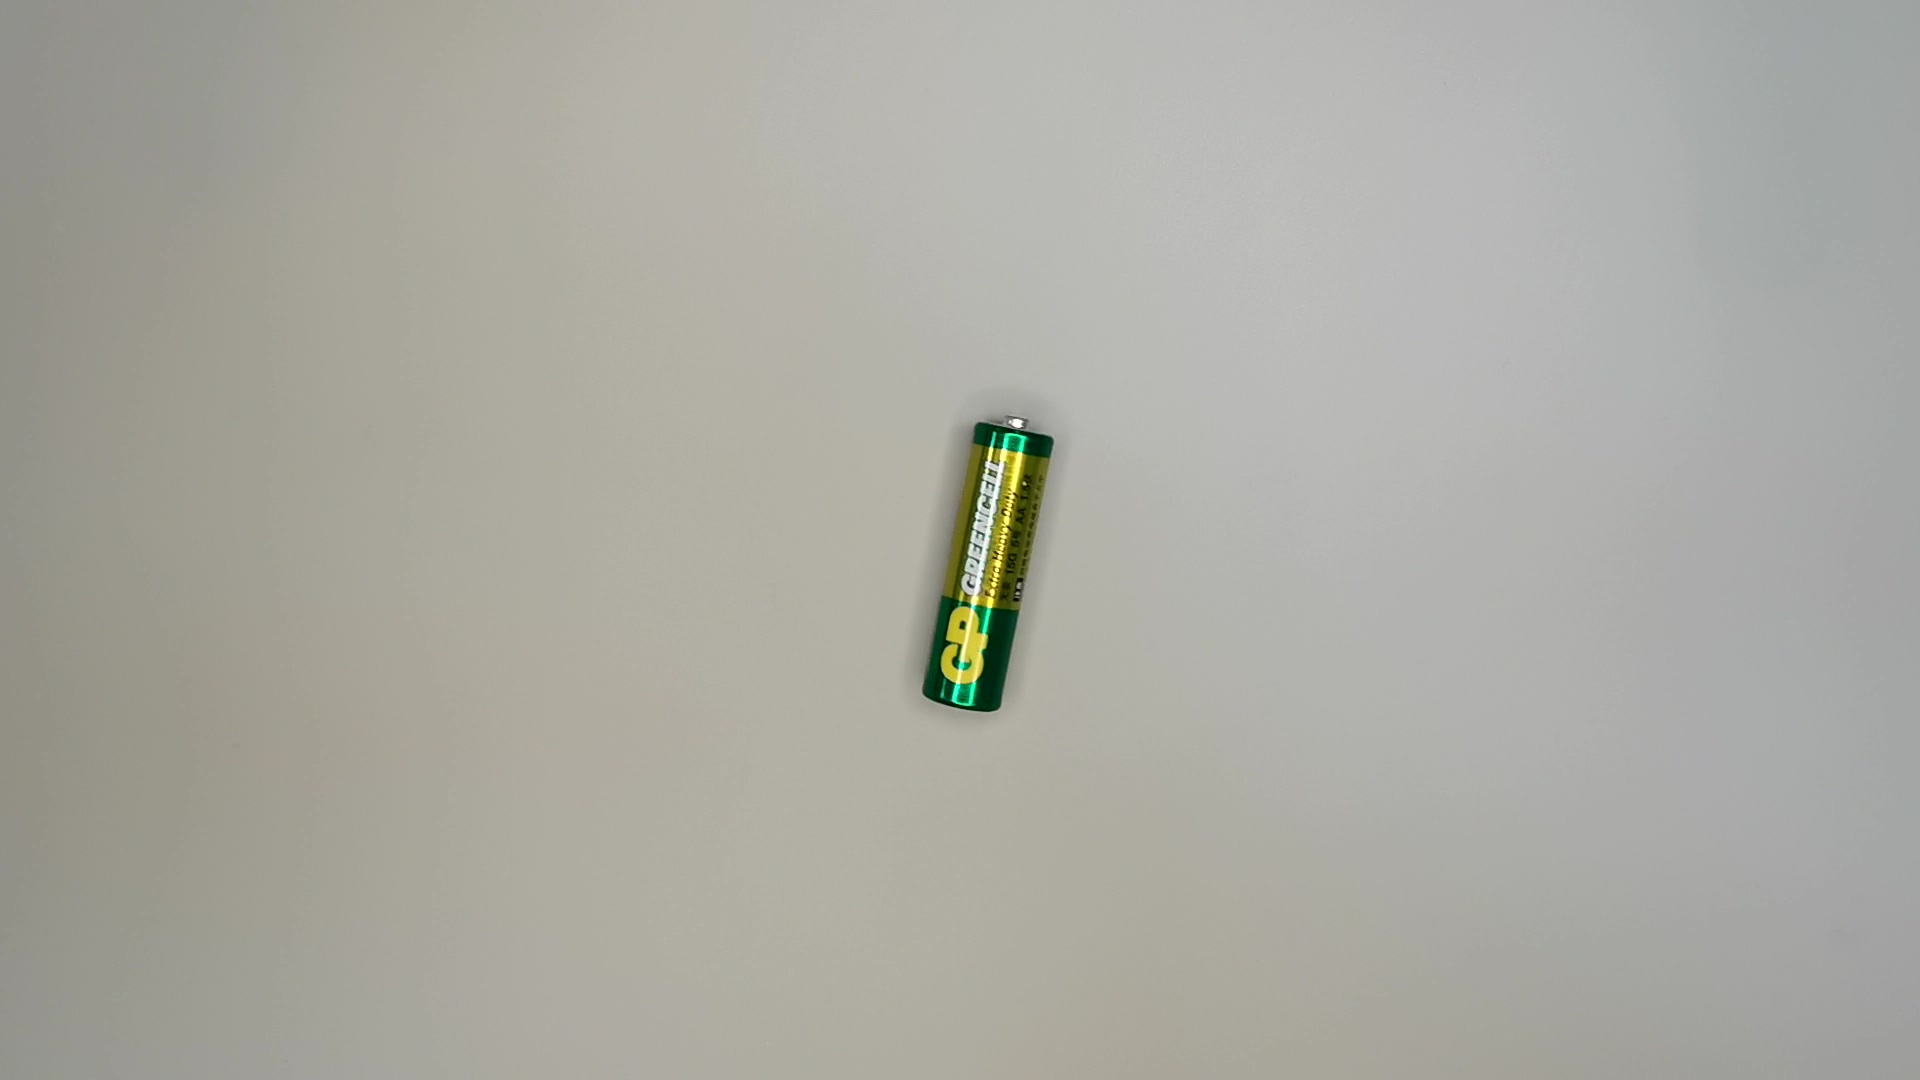battery: (916, 411, 1055, 716)
